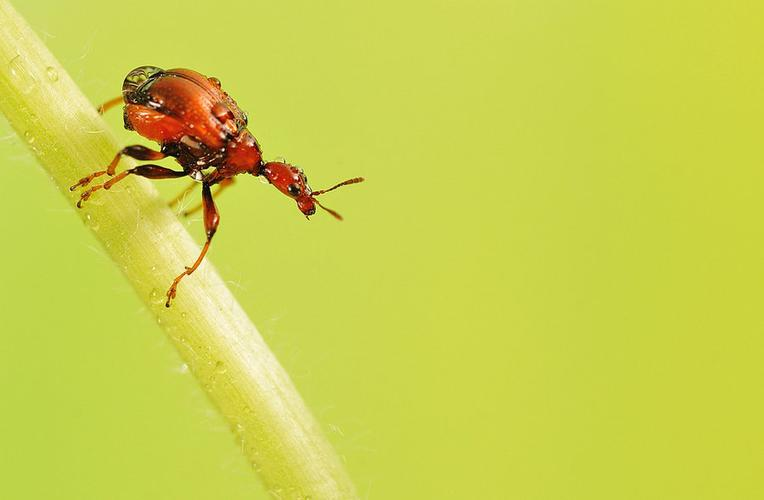Curculionidae: (70, 66, 366, 308)
